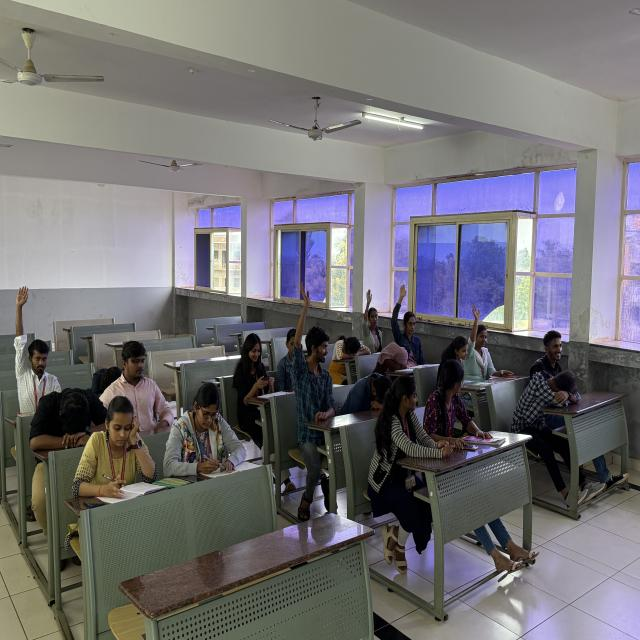Hand Rising: (12, 281, 67, 416), (294, 276, 336, 416), (388, 283, 424, 366), (462, 298, 498, 376), (359, 286, 386, 356)
Sleeping: (25, 385, 111, 497), (514, 361, 584, 436), (342, 368, 398, 416), (329, 333, 369, 380)
Using Phone: (229, 328, 286, 418)
Writing: (69, 393, 181, 523), (165, 374, 259, 482)
